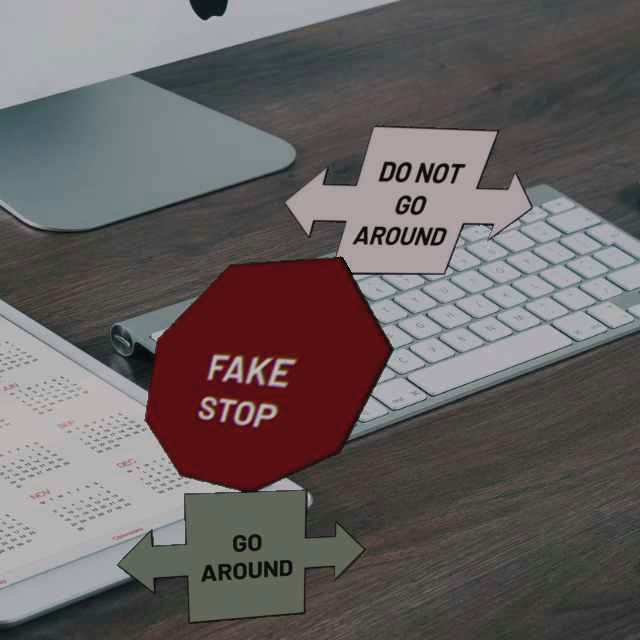DO_NOT_GO_AROUND: (283, 125, 533, 275)
FAKE_STOP: (144, 256, 394, 493)
GO_AROUND: (116, 489, 366, 624)
